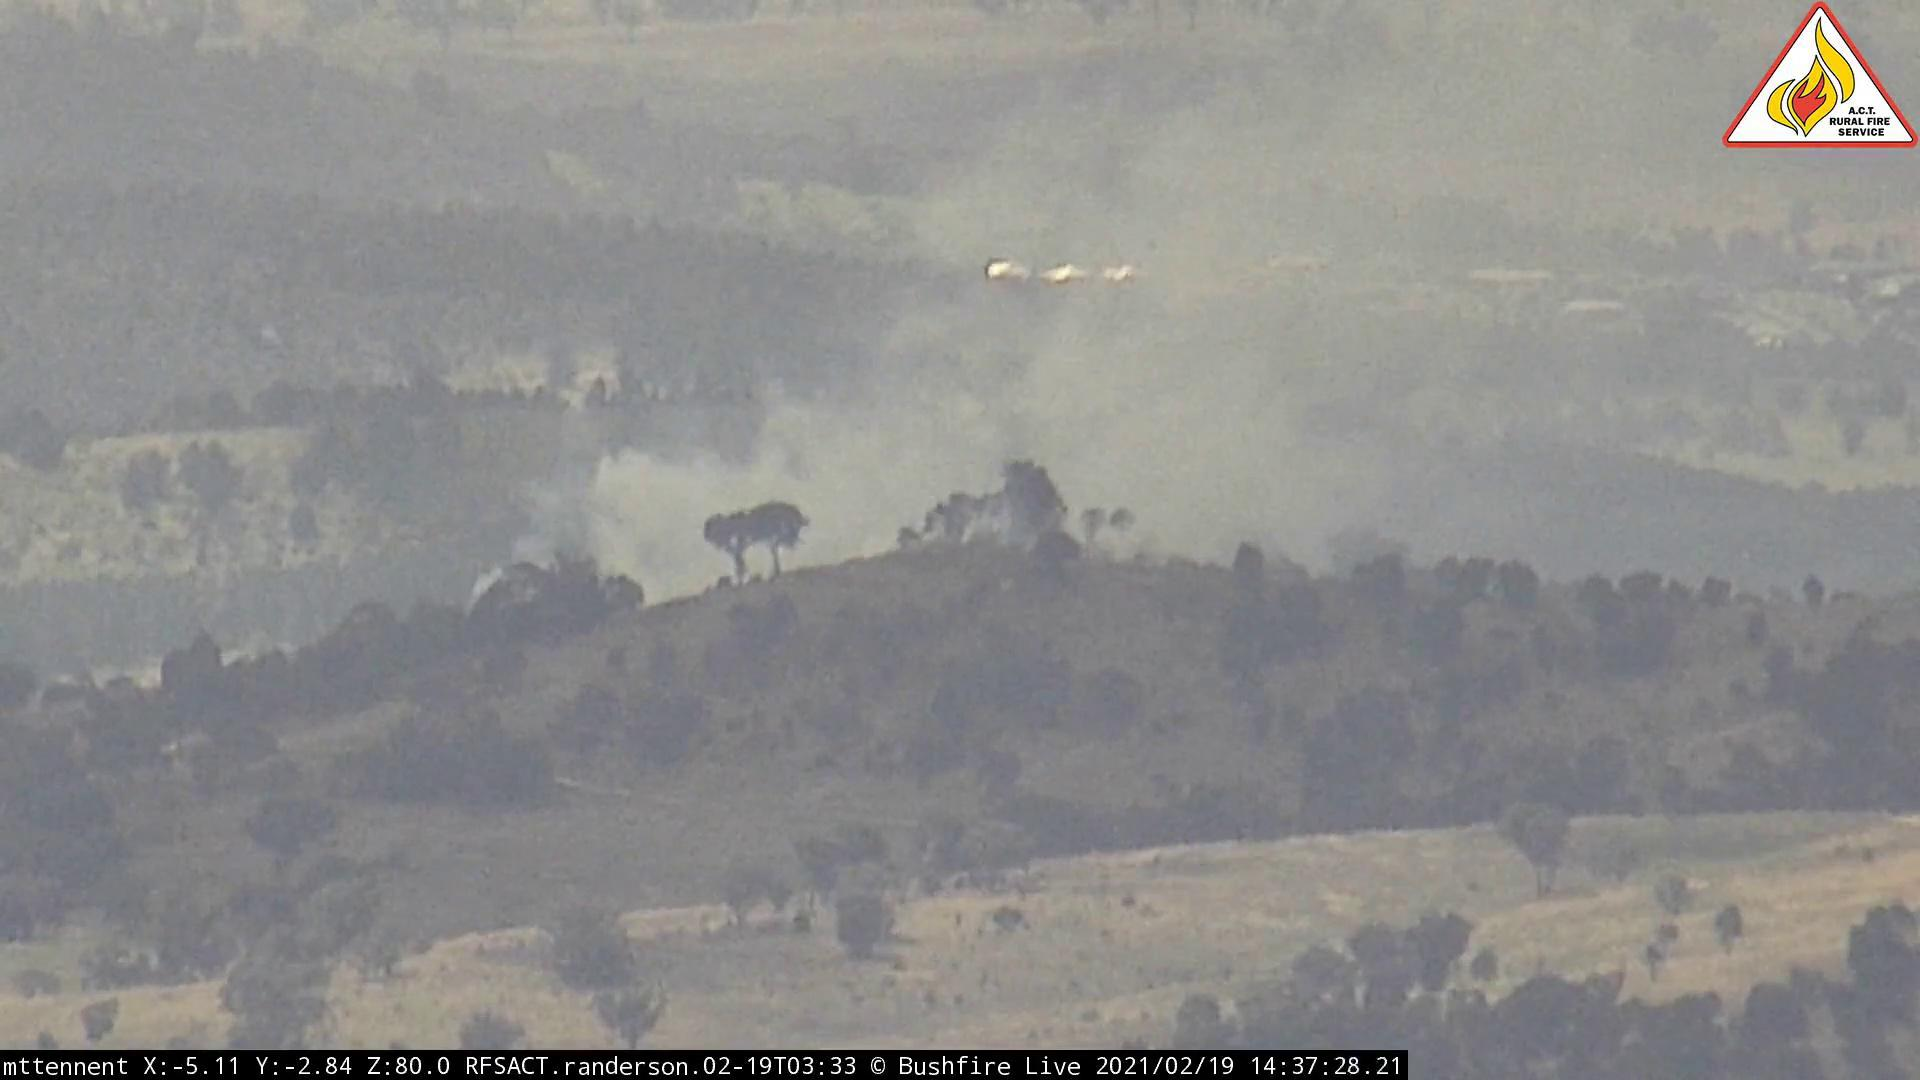instance_salient_object: (459, 44, 1648, 636)
